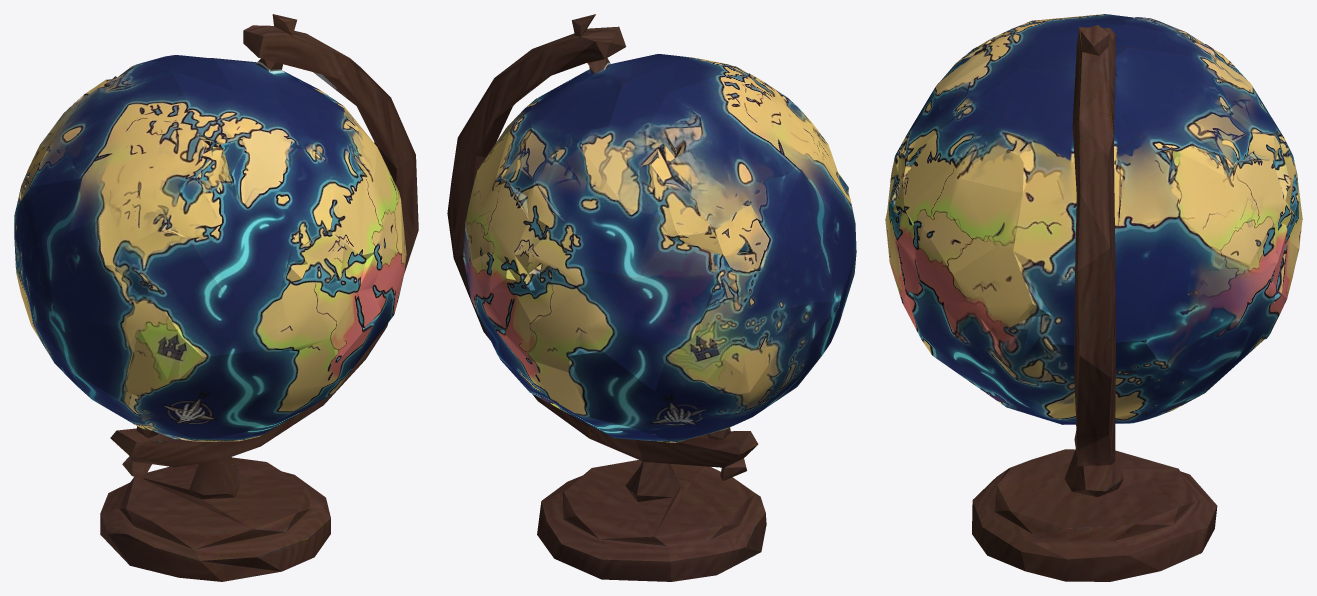
The model's file is globe.glb.
3 renders of one model, left to right at view 1: azimuth 30°, elevation 25°; view 2: azimuth 150°, elevation 25°; view 3: azimuth 270°, elevation 25°, orthographic. The views are drawn at different scales.
Bounding box in the file's own units: 1.46 × 1.89 × 1.33.
Materials: 1 (1 with a texture image).
